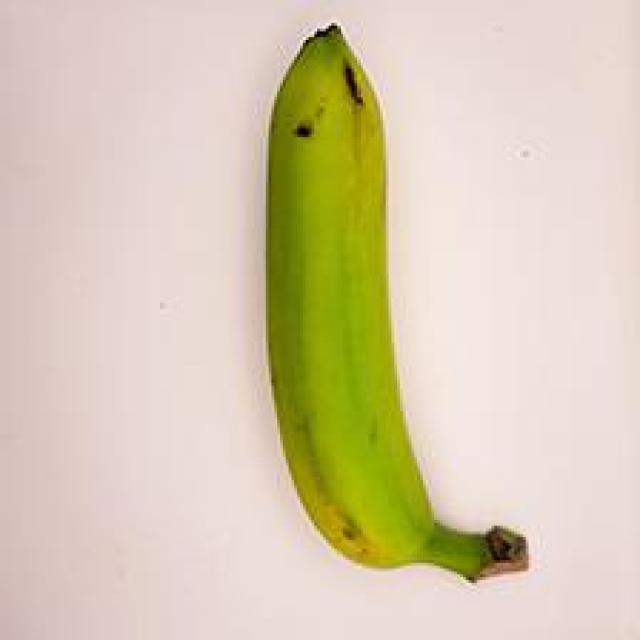unripe: (252, 0, 534, 625)
